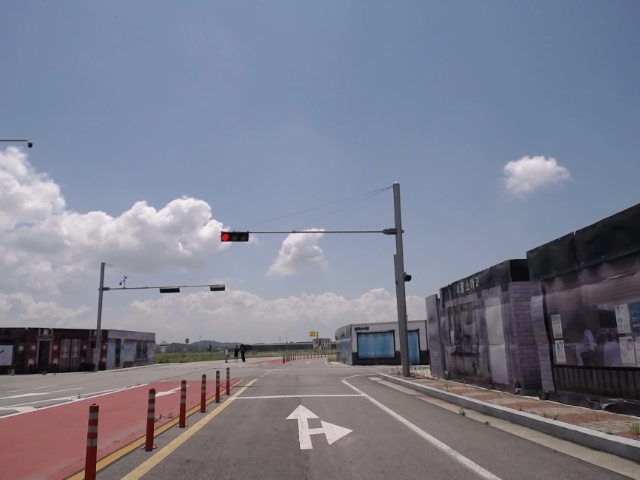red_3: (221, 231, 252, 242)
